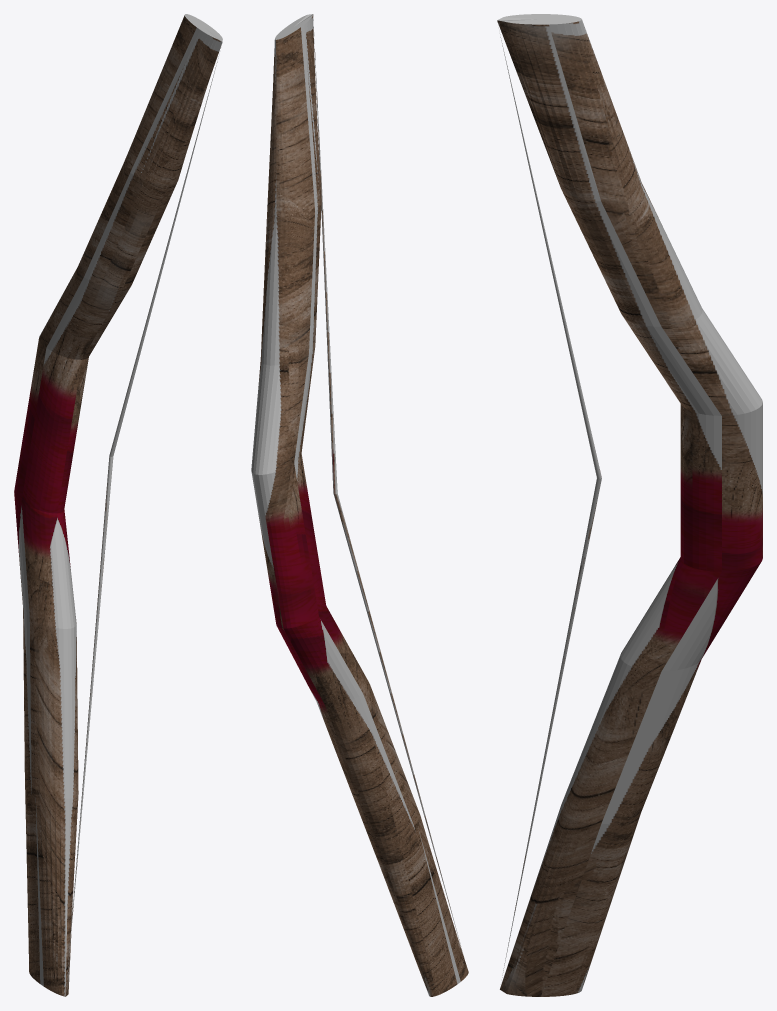
Rendered from Protagonista121.obj.
3 renders of one model, left to right at view 1: azimuth 30°, elevation 25°; view 2: azimuth 150°, elevation 25°; view 3: azimuth 270°, elevation 25°, orthographic. The views are drawn at different scales.
Parts seen in each view (by area): view 1: Cilindro; view 2: Cilindro; view 3: Cilindro.
Boxes of the visible parts, x1,y1,x2,y2 form: Cilindro: (14, 14, 222, 996); Cilindro: (251, 14, 468, 996); Cilindro: (497, 14, 762, 996).
Size of the model in its own units: 0.1877 by 0.9705 by 0.2204.
Materials: 1 (1 with a texture image).
